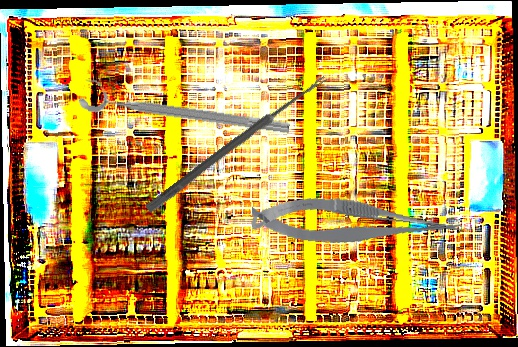Fixation Ring: (77, 75, 293, 140)
Micro Scissor: (248, 185, 464, 264)
Surgical Spoon: (144, 72, 329, 215)
